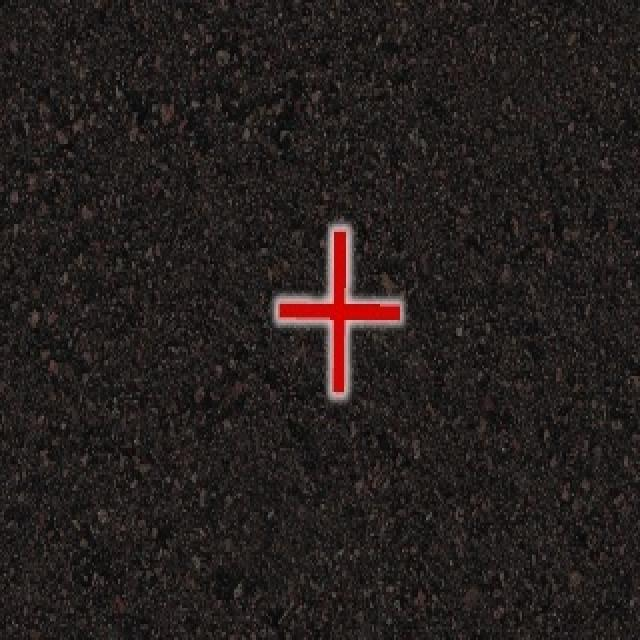x_marker: (277, 228, 399, 393)
